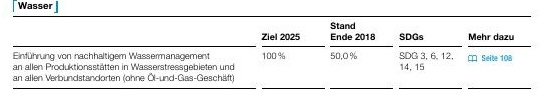table: (0, 0, 545, 104)
